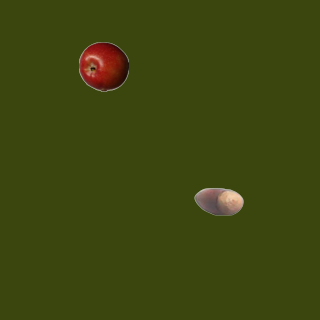Apple Braeburn: (78, 41, 128, 91)
Hazelnut: (193, 176, 243, 226)
